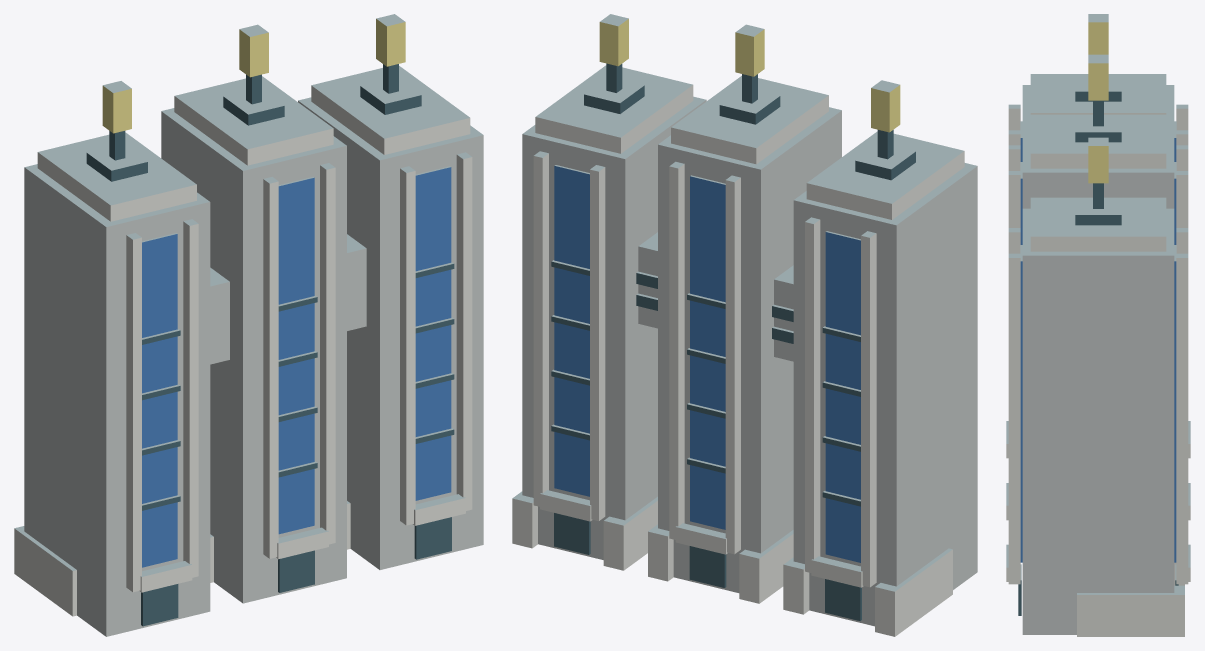
File: TripleServerHall.obj
3 renders of one model, left to right at view 1: azimuth 30°, elevation 25°; view 2: azimuth 150°, elevation 25°; view 3: azimuth 270°, elevation 25°, orthographic. The views are drawn at different scales.
Size of the model in its own units: 0.762 by 1 by 0.34.
